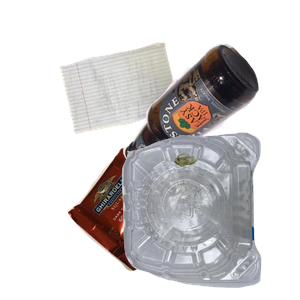glass: (120, 41, 300, 196)
paper: (56, 40, 229, 166)
plastic: (119, 130, 300, 300)
trash: (65, 145, 242, 300)
